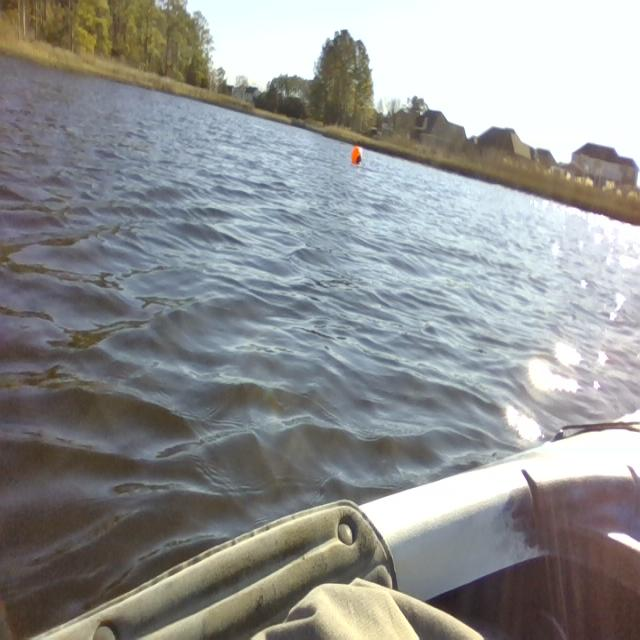Buoy: (350, 143, 364, 169)
